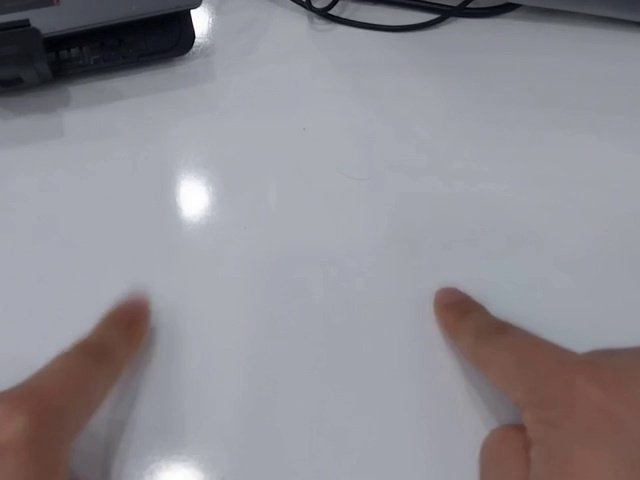fingers: (98, 295, 151, 350), (432, 284, 480, 338)
